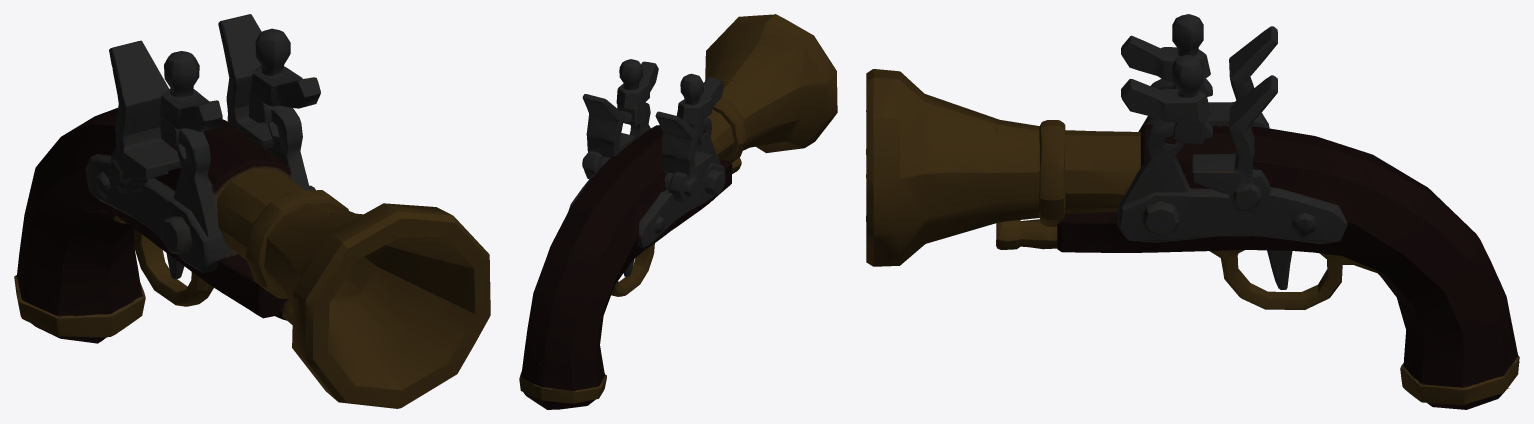
Rendered from blunderbuss_low.glb.
3 renders of one model, left to right at view 1: azimuth 30°, elevation 25°; view 2: azimuth 150°, elevation 25°; view 3: azimuth 270°, elevation 25°, orthographic. The views are drawn at different scales.
Visible parts, largest first — view 1: world; view 2: world; view 3: world.
Part boxes in pixels (left/top/right/bottom): world: left=14, top=14, right=490, bottom=408; world: left=519, top=14, right=837, bottom=409; world: left=866, top=14, right=1519, bottom=409.
Bounding box in the file's own units: 0.3039 × 0.6244 × 1.
Materials: 1 (1 with a texture image).
